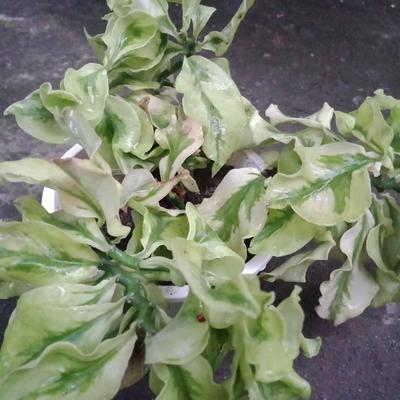Pothos plant: (63, 31, 361, 349)
